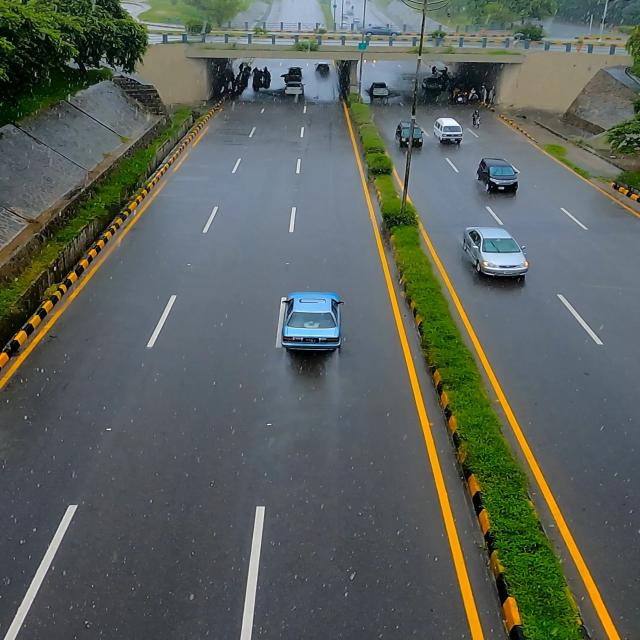Car: (277, 290, 351, 362), (458, 222, 535, 284), (476, 156, 523, 198), (436, 113, 468, 148), (396, 118, 428, 151)
